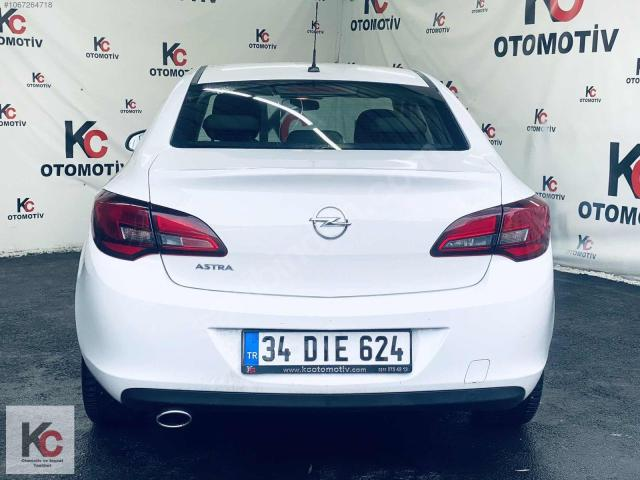plaka: (242, 330, 412, 372)
